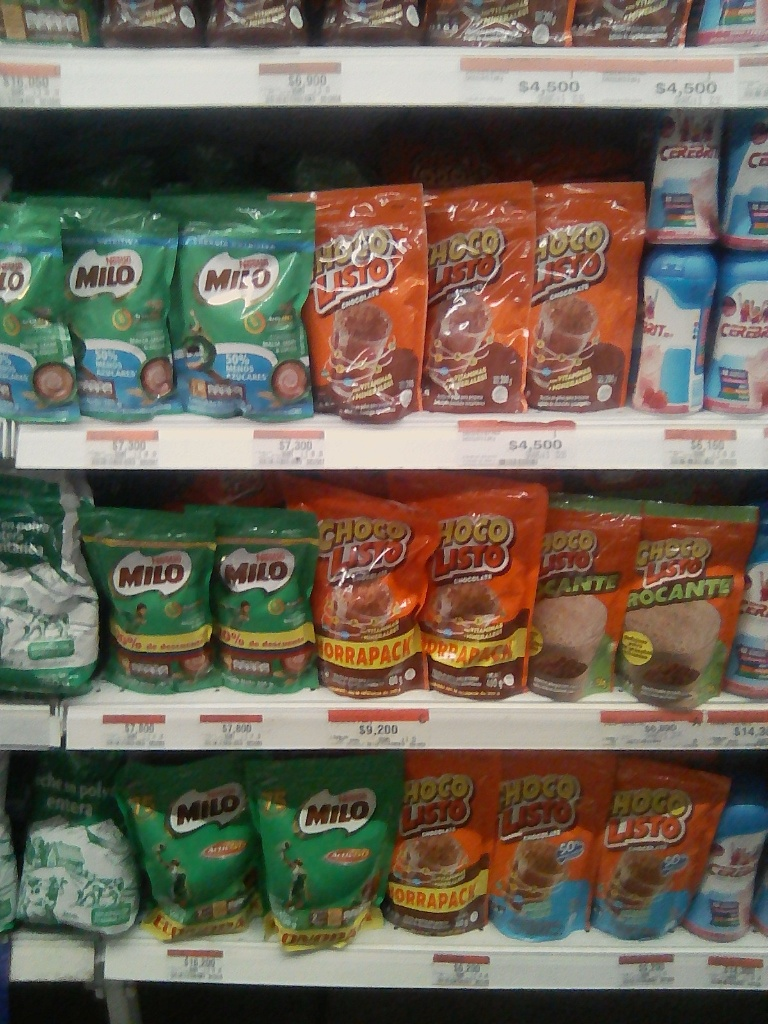COL0170102DYP25000: (539, 489, 643, 706)
COL0170103DYP20000: (269, 186, 423, 420)
COL0170103DYP40000: (287, 477, 427, 699)
COL0170203DYP25000: (80, 499, 221, 689)
COL0170203DYP50000: (119, 762, 265, 938)
COL0170205DYP20000: (2, 203, 79, 421)
